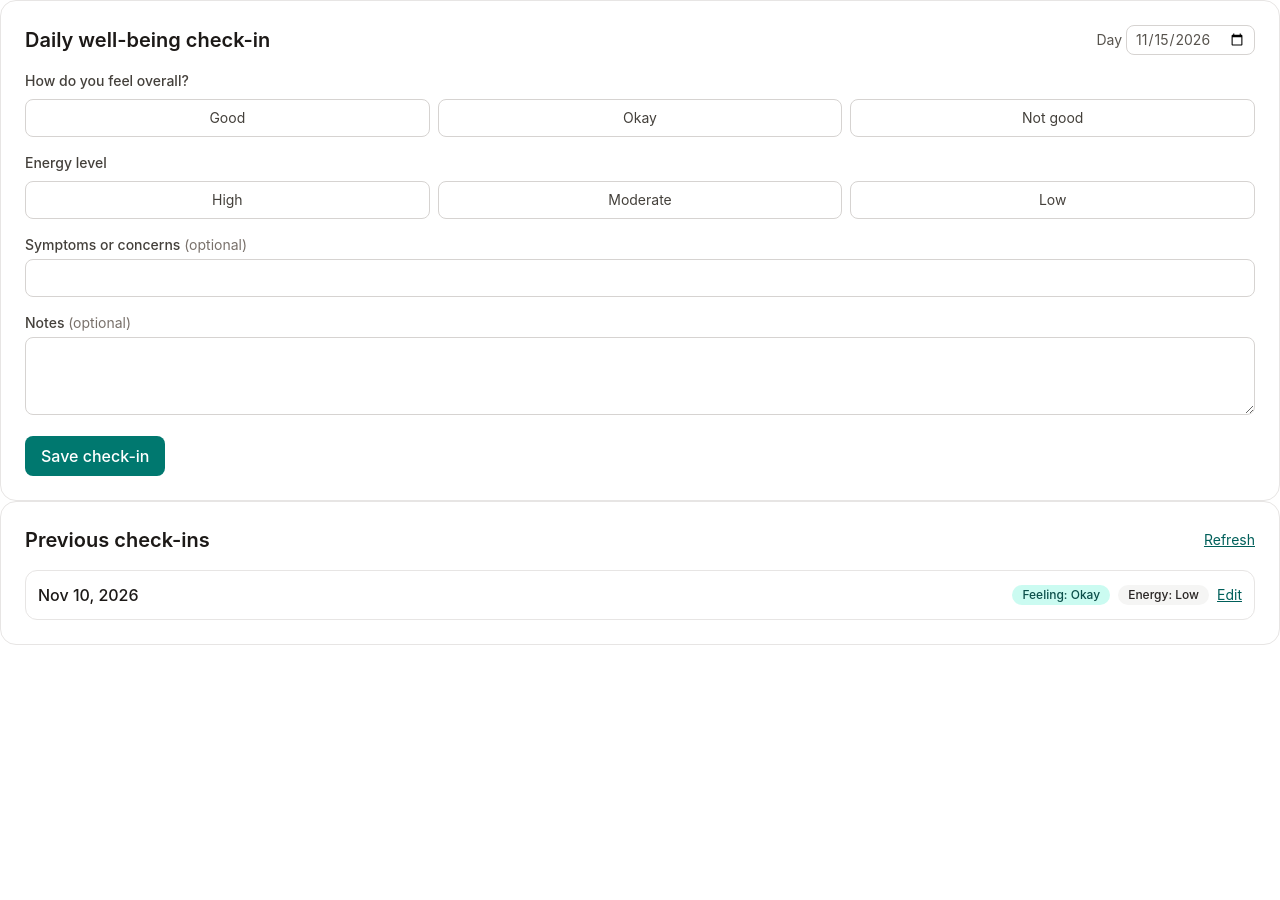
Scenario: check-in history (parent) › "Edit" loads that day into the form so it can be changed
The width and height of the screenshot is (1280, 900).
Click the button with aria-label "Edit check-in for" at (1230, 595), box x1=1217 y1=585 x2=1242 y2=605
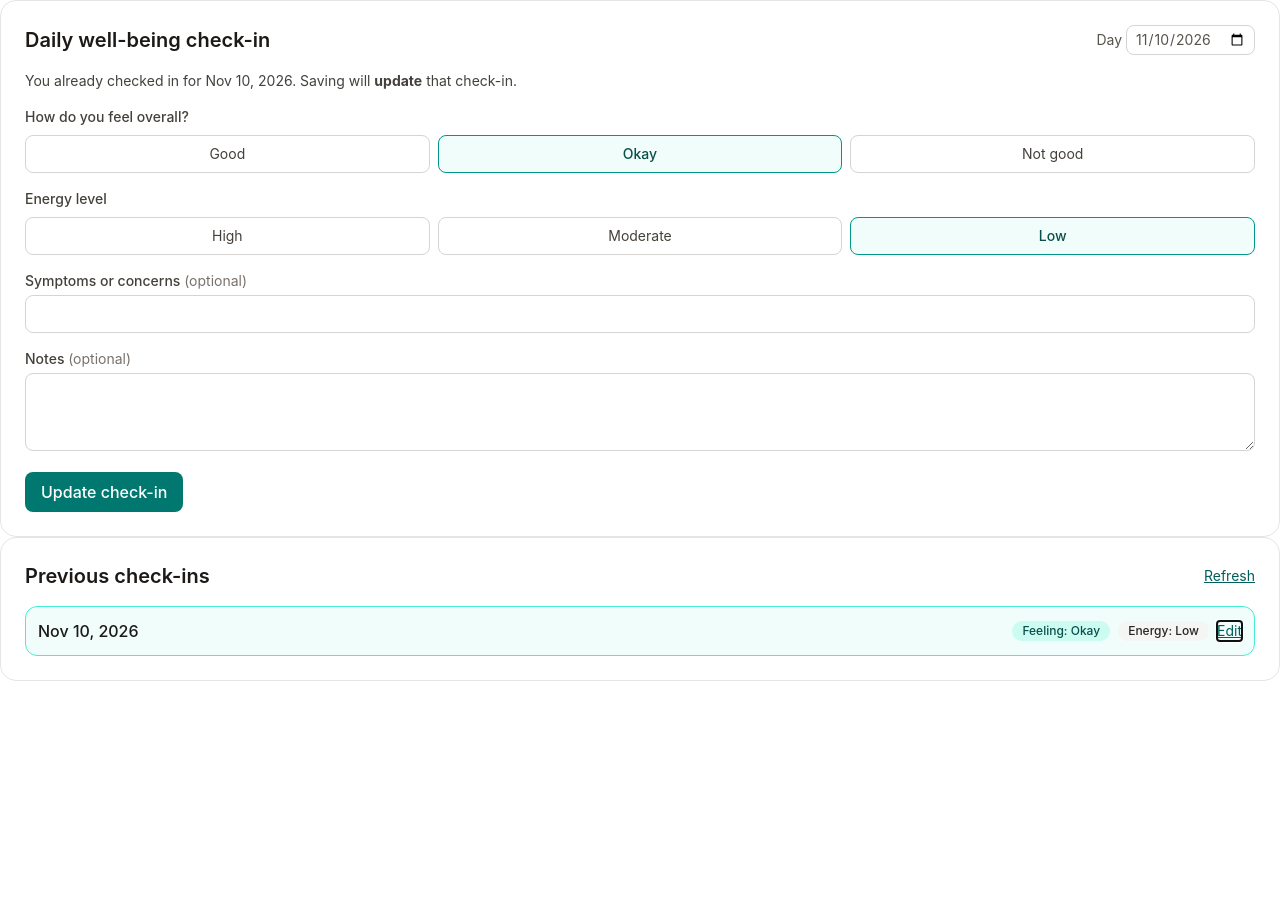
Expected: the button "Update check-in" is shown, x1=25 y1=472 x2=183 y2=512
Expected: the radio button labelled "Okay" is checked, x1=438 y1=135 x2=842 y2=173
Expected: the date field labelled "Day" holds "2026-11-10", x1=1126 y1=25 x2=1255 y2=55
